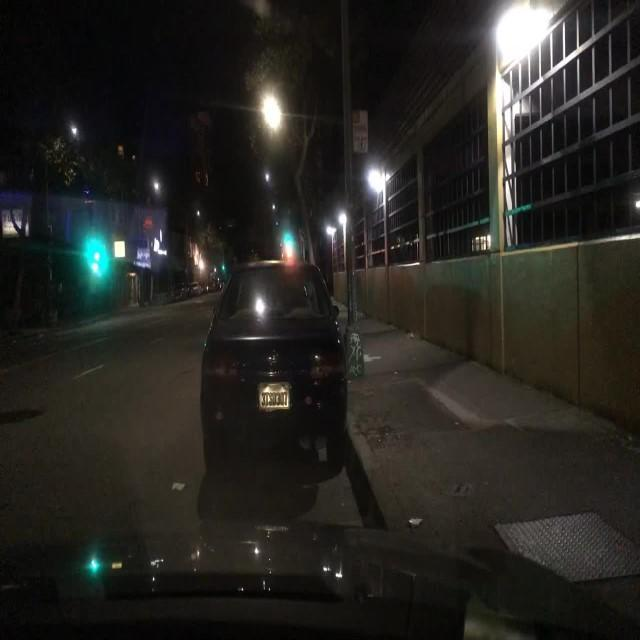normal: (179, 231, 379, 485)
